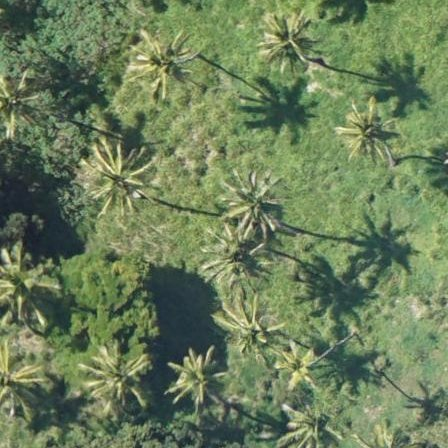palm_tree: (76, 337, 152, 418), (80, 147, 149, 213), (165, 341, 227, 407), (218, 297, 279, 362), (223, 180, 280, 237), (131, 35, 190, 90), (1, 340, 41, 421), (206, 228, 264, 283), (257, 15, 312, 69), (339, 109, 392, 159), (1, 254, 41, 315), (284, 407, 338, 448), (1, 79, 35, 131), (279, 350, 321, 389)
